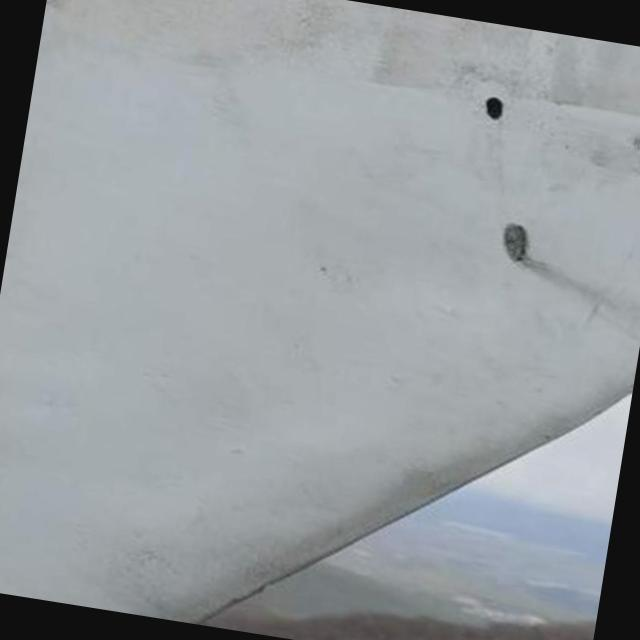crack: (492, 215, 578, 292), (474, 86, 514, 131)
